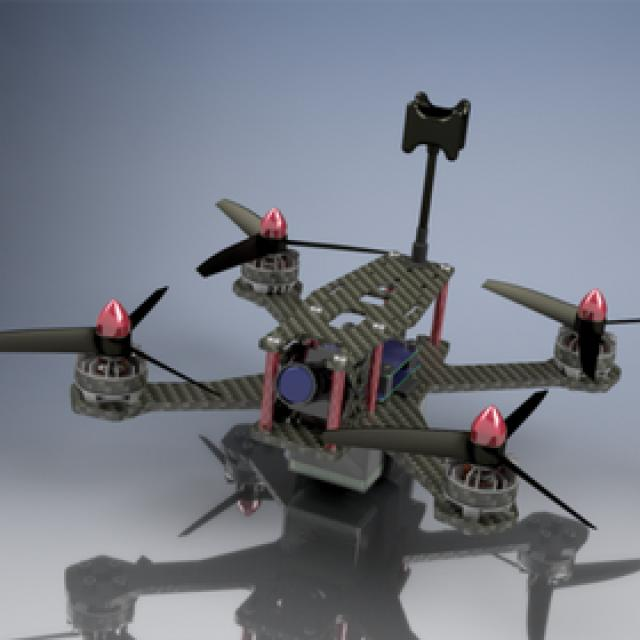drone: (9, 176, 638, 587)
